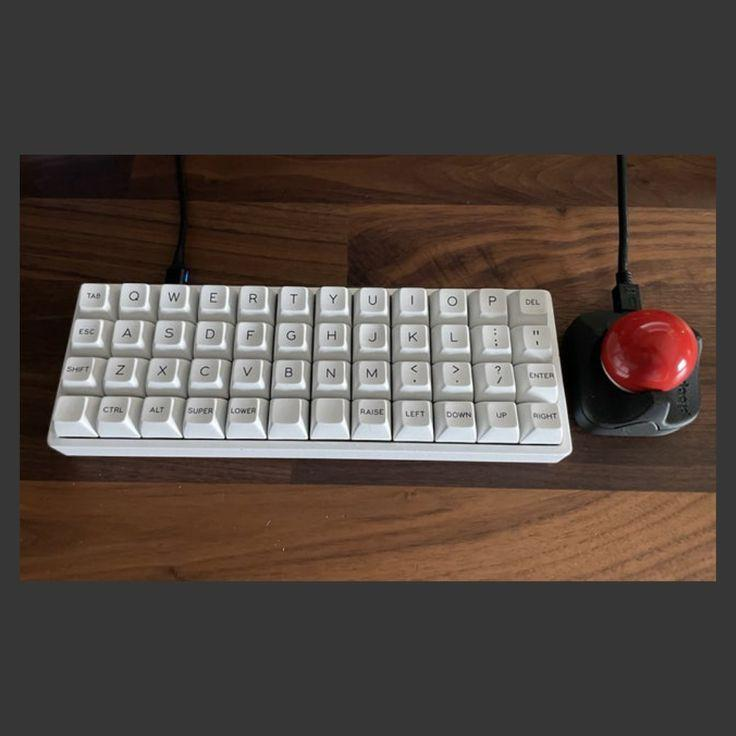keyboard: (45, 281, 573, 463)
